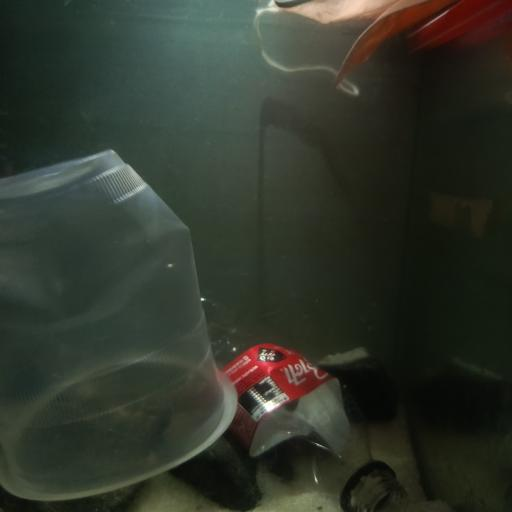mask: (254, 0, 512, 97)
plastic_bottle: (193, 291, 406, 512)
plastic_cup: (4, 150, 240, 503)
